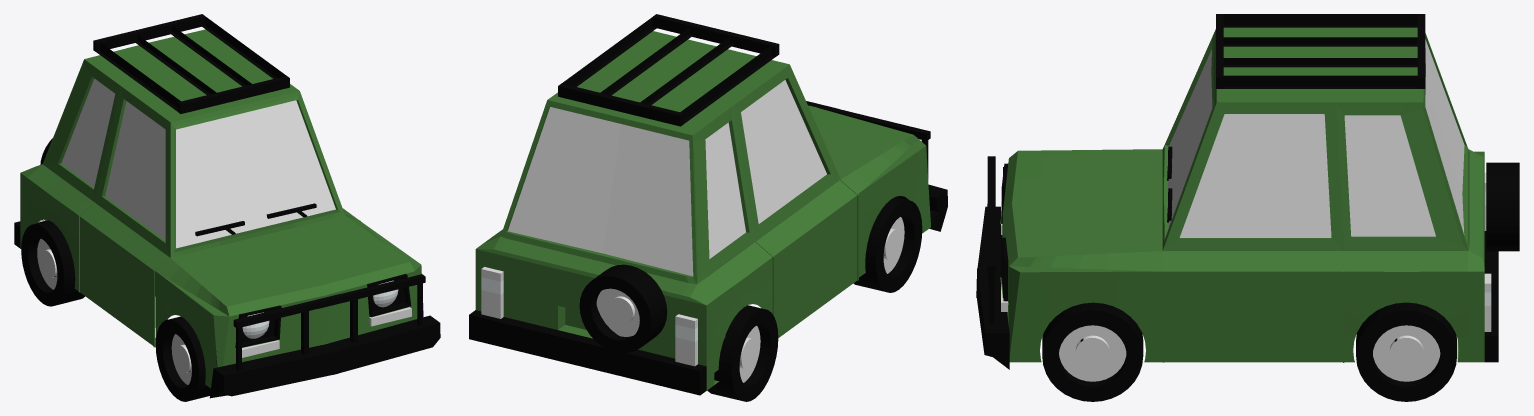
The model's file is Jeep.fbx.
The picture shows the model from 3 angles, left to right: view 1: azimuth 30°, elevation 25°; view 2: azimuth 150°, elevation 25°; view 3: azimuth 270°, elevation 25°; orthographic projection. The views are drawn at different scales.
Parts seen in each view (by area): view 1: Body, FrontWindow.002, Cube.002, RoofRack.025, FrontLeftWindow, Cylinder.010, Cube.016, Cylinder.005, Cube.012, Cube.004, Cylinder.011, Cylinder.009 (+2 smaller); view 2: Body, ReawWindow.003, RoofRack.025, FrontLeftWindow, Cube.022, Cylinder.007, Cylinder.010, Cube.016, Cylinder.005, Cylinder.008, Cube.021, Cube.012 (+5 smaller); view 3: Body, FrontLeftWindow, RoofRack.025, Cube.016, Cylinder.003, Cylinder.001, ReawWindow.003, Cylinder.007, Cylinder.002, Cube.002, Cylinder.004, FrontWindow.002 (+3 smaller).
Boxes of the visible parts, x1,y1,x2,y2 form: Body: (20, 29, 423, 388); FrontWindow.002: (176, 100, 335, 248); Cube.002: (209, 315, 440, 398); RoofRack.025: (93, 14, 289, 113); FrontLeftWindow: (105, 101, 165, 240); Cylinder.010: (21, 220, 84, 306); Cube.016: (61, 78, 115, 187); Cylinder.005: (155, 316, 217, 401); Cube.012: (233, 274, 425, 328); Cube.004: (235, 274, 411, 347); Cylinder.011: (37, 239, 57, 289); Cylinder.009: (171, 334, 191, 384); Body: (475, 31, 930, 390); ReawWindow.003: (508, 107, 693, 276); RoofRack.025: (558, 14, 779, 126); FrontLeftWindow: (741, 80, 826, 223); Cube.022: (469, 310, 706, 395); Cylinder.007: (579, 264, 667, 353); Cylinder.010: (707, 305, 778, 401); Cube.016: (705, 122, 745, 258); Cylinder.005: (853, 197, 922, 292); Cylinder.008: (599, 288, 639, 335); Cube.021: (481, 290, 697, 366); Cube.012: (806, 101, 930, 140); Body: (1000, 27, 1484, 362); FrontLeftWindow: (1179, 114, 1331, 237); RoofRack.025: (1216, 14, 1425, 88); Cube.016: (1344, 115, 1435, 236); Cylinder.003: (1356, 302, 1456, 401); Cylinder.001: (1042, 302, 1143, 401); ReawWindow.003: (1425, 39, 1464, 234); Cylinder.007: (1486, 162, 1519, 251); Cylinder.002: (1059, 325, 1126, 381); Cube.002: (976, 206, 1009, 369); Cylinder.004: (1373, 325, 1440, 381); FrontWindow.002: (1168, 49, 1212, 227).
Bounding box in the file's own units: 225 × 231 × 391.
